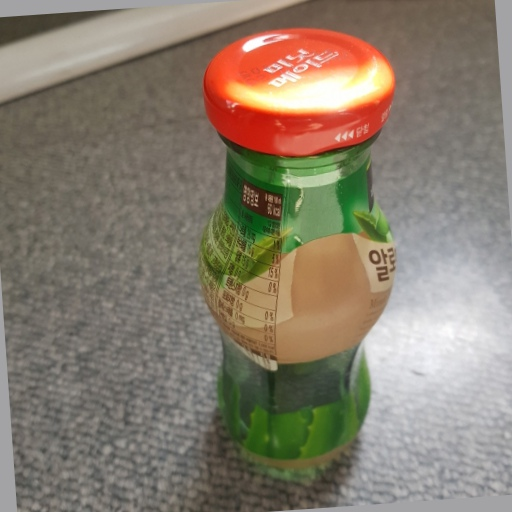Glass_4: (195, 25, 401, 480)
